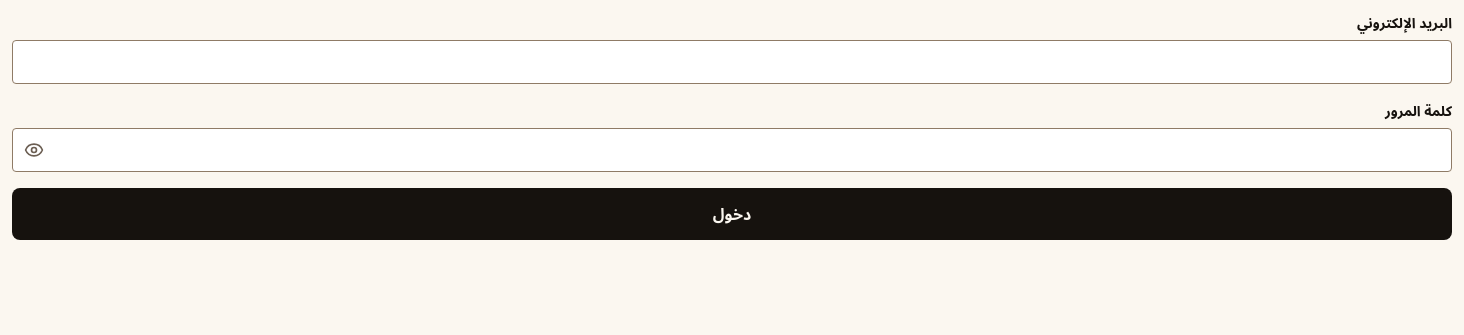
Scenario: StaffLoginForm (D31) › bad credentials: one generic message, password field not blamed
The width and height of the screenshot is (1464, 335).
Type "owner@example.com" into the field labelled "البريد الإلكتروني".
click(732, 62); type("owner@example.com")  # box [12, 40, 1452, 84]
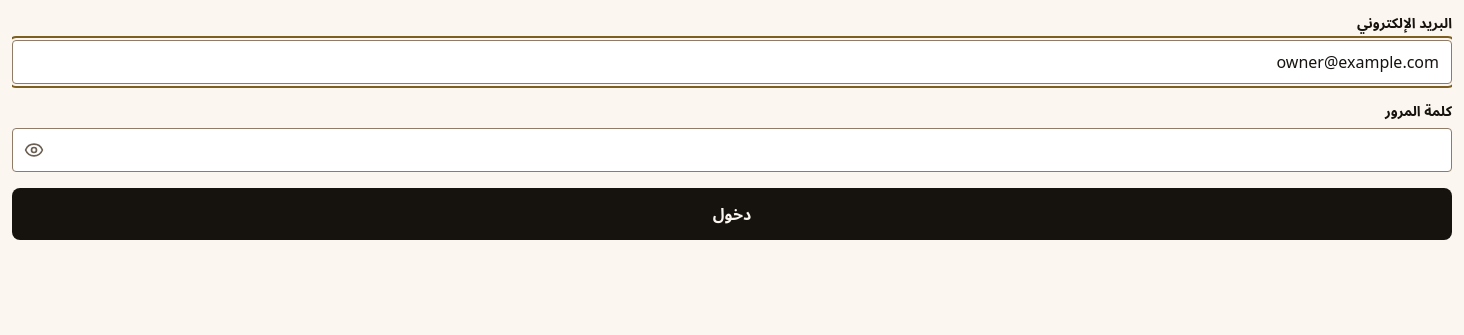
Type "secret-pass" into the password field labelled "كلمة المرور".
click(732, 150); type("secret-pass")  # box [12, 128, 1452, 172]
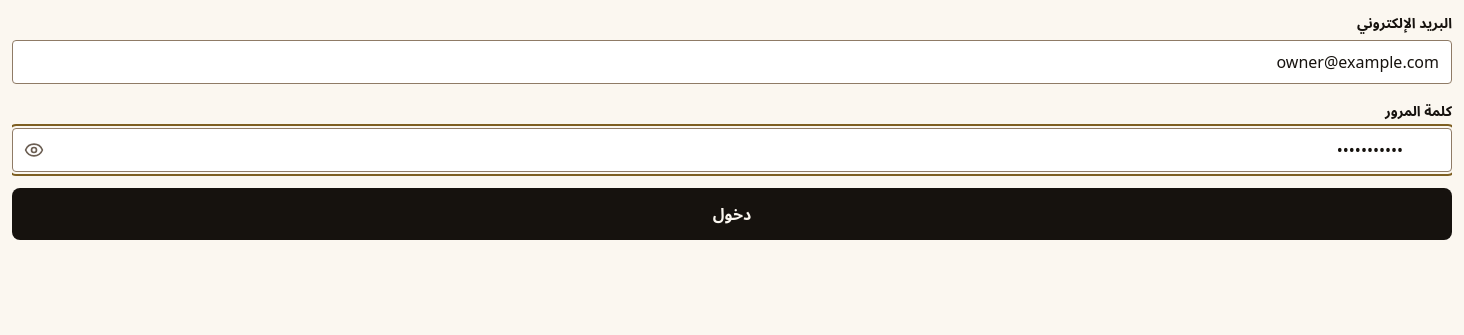
Click the button "دخول".
click(732, 214)  # box [12, 188, 1452, 240]
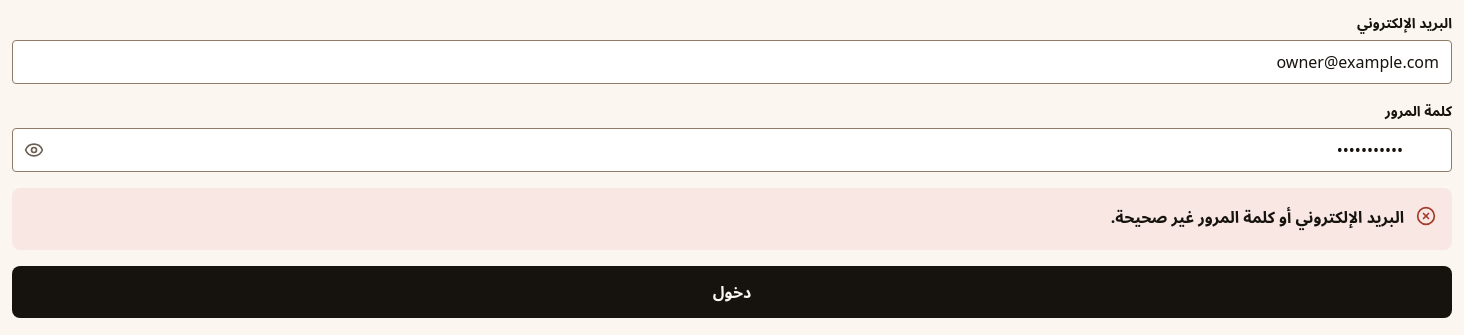
Expected: the message reads "البريد الإلكتروني أو كلمة المرور غير صحيحة.", [1111, 206, 1404, 228]
